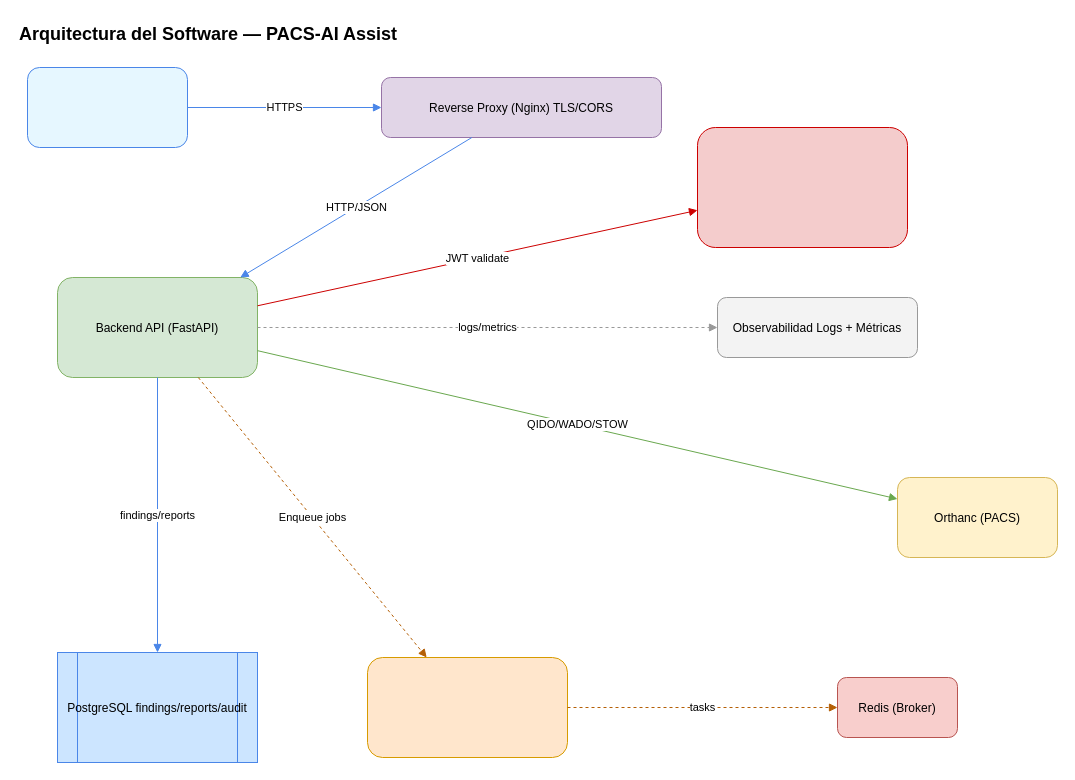
Some shapes in this 1075 by 780 pixel diagram are drawn without their labels. The centre of each missing label's shape, as x and y in pixels:
Auth (JWT) Roles Radiologist/Admin: the point at 802,187
Frontend Web (React): the point at 107,107
Worker (Celery + TensorFlow): the point at 467,707
